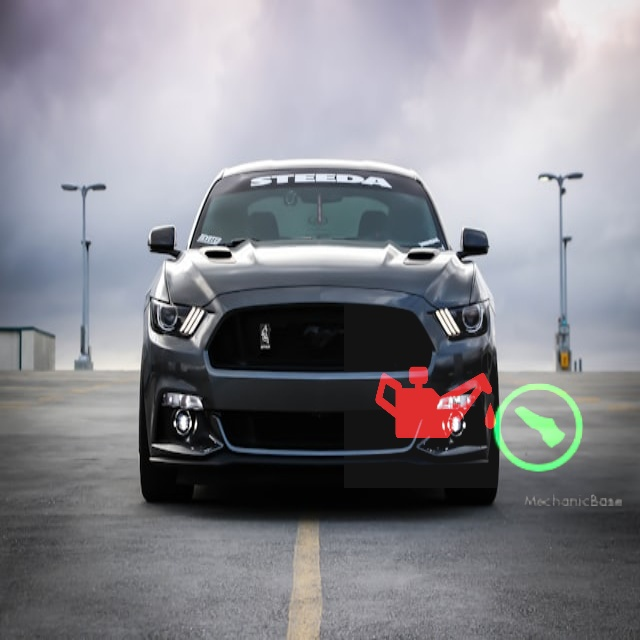symbol: (344, 303, 529, 488), (456, 342, 629, 515)
